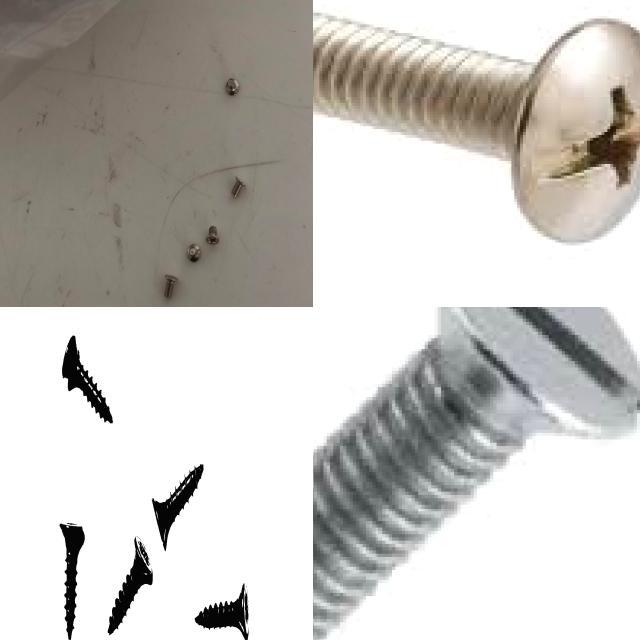Screw: (313, 307, 640, 640), (313, 7, 640, 248), (152, 462, 204, 549), (107, 535, 153, 633), (61, 333, 112, 421), (195, 582, 249, 640), (59, 522, 84, 639), (160, 272, 180, 302), (228, 174, 248, 200), (203, 223, 220, 246), (186, 241, 202, 263), (225, 76, 240, 96)
